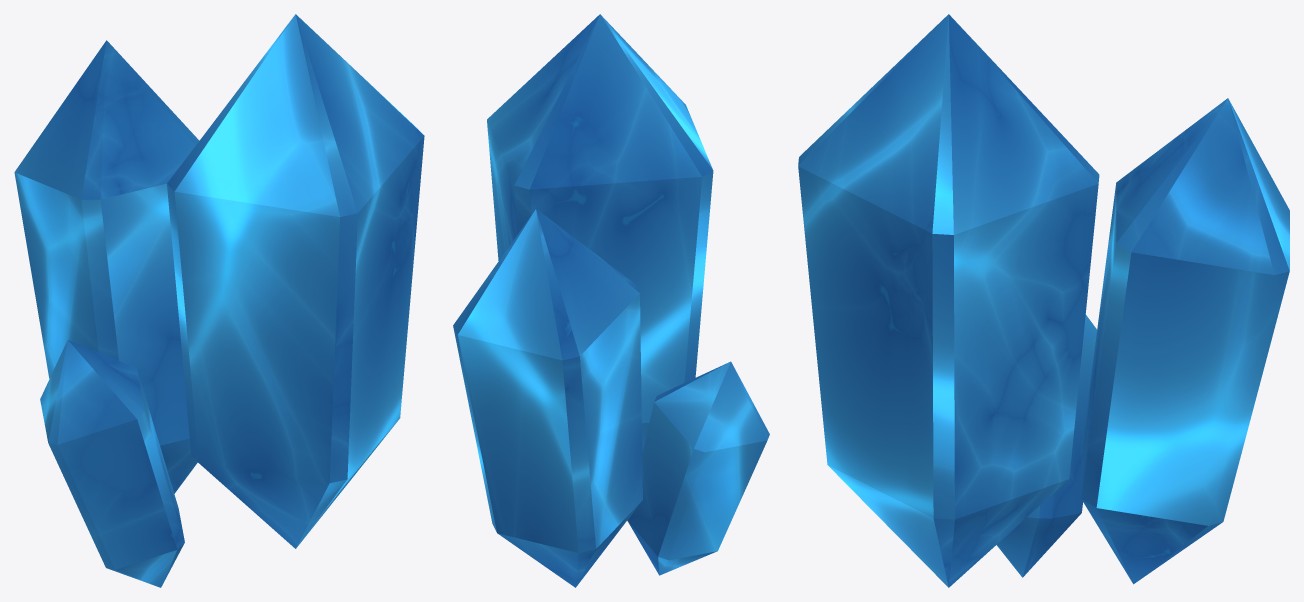
The model's file is crystall.glb.
The picture shows the model from 3 angles, left to right: view 1: azimuth 30°, elevation 25°; view 2: azimuth 150°, elevation 25°; view 3: azimuth 270°, elevation 25°; orthographic projection. The views are drawn at different scales.
Parts seen in each view (by area): view 1: Hedra002__0; view 2: Hedra002__0; view 3: Hedra002__0.
Boxes of the visible parts, <box> form: Hedra002__0: <box>14,14,424,587</box>; Hedra002__0: <box>453,14,769,587</box>; Hedra002__0: <box>798,14,1289,587</box>.
Size of the model in its own units: 38.41 by 61.98 by 44.8.
Materials: 1 (1 with a texture image).
